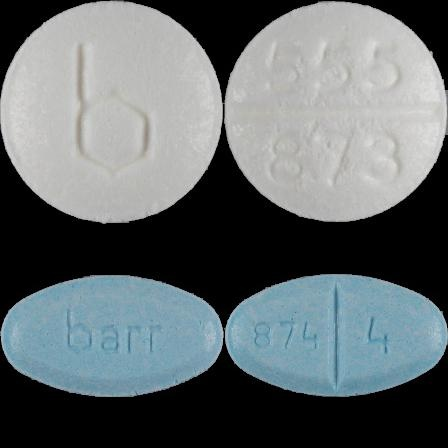0555-0873: (0, 0, 224, 224)
